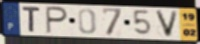0: (77, 8, 97, 35)
5: (131, 10, 153, 37)
7: (101, 7, 123, 37)
P: (45, 5, 69, 35)
T: (21, 6, 42, 34)
V: (153, 9, 180, 39)
